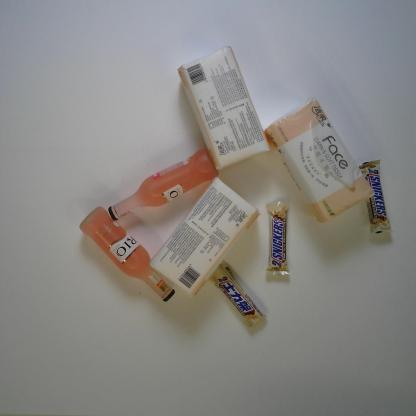Alcohol: (79, 206, 176, 303), (107, 146, 220, 221)
Chocolate: (209, 259, 268, 331), (357, 158, 393, 235), (263, 199, 290, 277)
Tissue: (264, 96, 376, 225), (148, 176, 262, 301), (177, 45, 272, 172)
